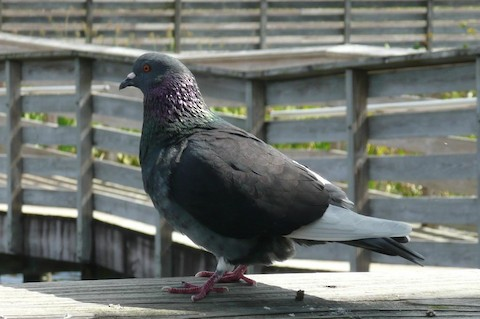pigeon: (114, 49, 427, 302)
